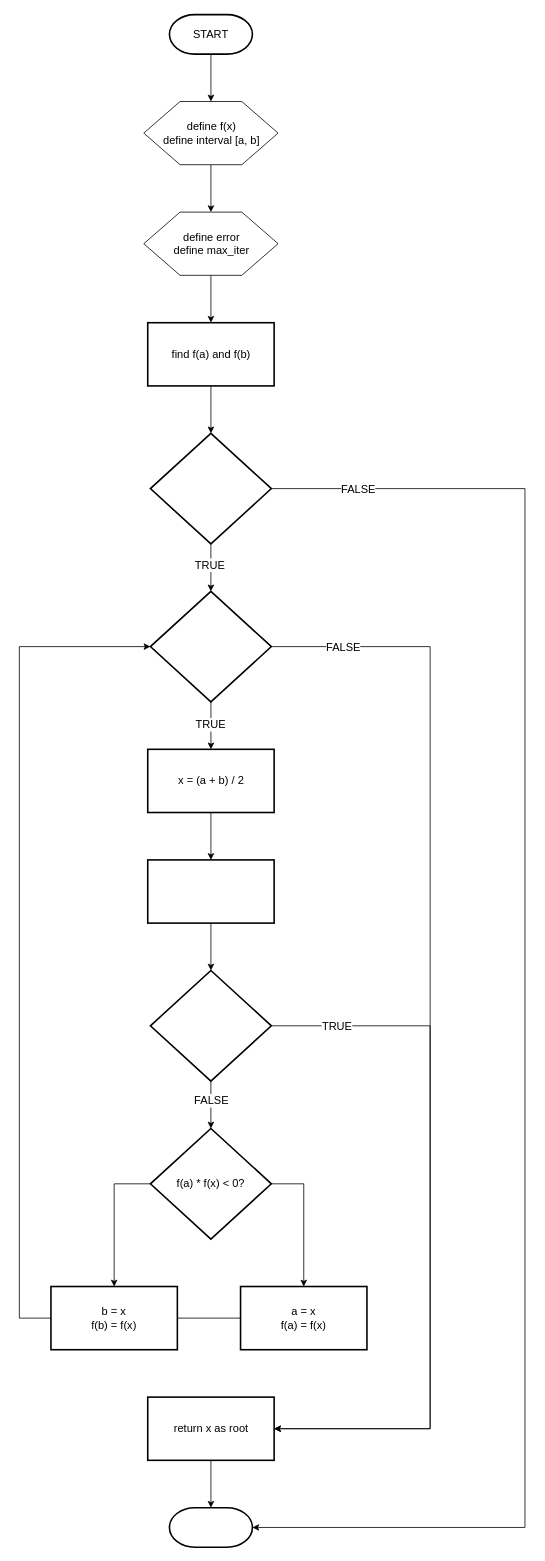
Image size: 545x1561. Some labels were removed from this diagram. The centre of each missing label's shape, as x and y in pixels:
END: the point at 210,1527
f(a) * f(b) < 0 ?: the point at 210,488
find f(x): the point at 211,891
i < max_iter: the point at 210,646
|b - a| < error or |f(x)| < error?: the point at 210,1025
